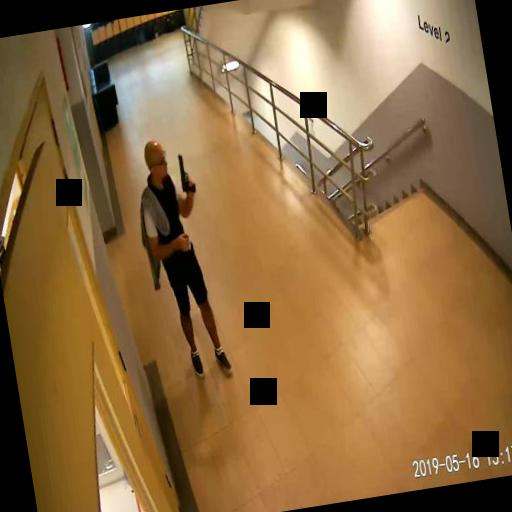Handgun: (175, 151, 194, 193)
